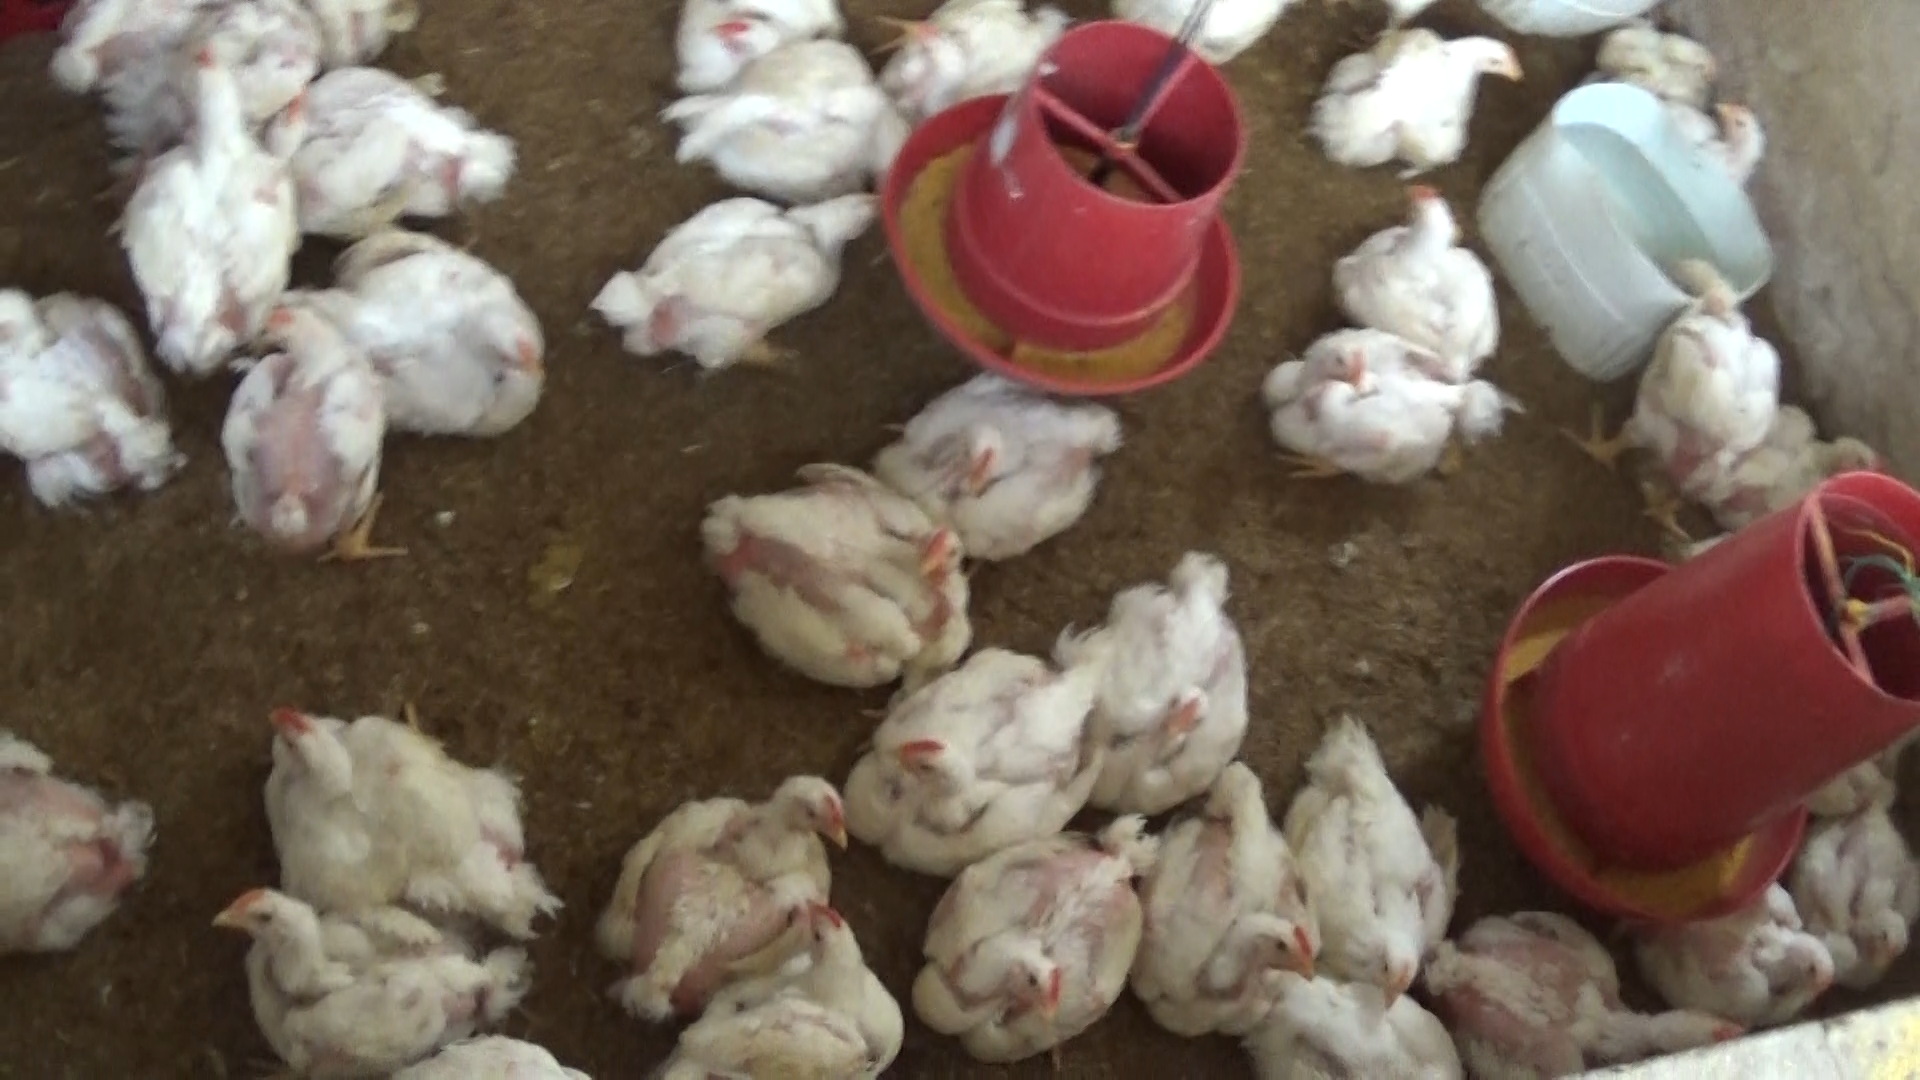Pollos: (243, 684, 562, 936), (589, 756, 856, 1038), (686, 452, 978, 698), (915, 803, 1160, 1063), (1524, 237, 1785, 477), (206, 873, 517, 1073), (1276, 712, 1484, 1000), (1431, 889, 1733, 1069), (1060, 549, 1265, 812), (1130, 748, 1309, 1047), (306, 223, 555, 436), (596, 175, 897, 352), (135, 37, 290, 377), (225, 282, 410, 568), (621, 889, 895, 1080), (843, 633, 1087, 839), (1246, 320, 1497, 517), (881, 367, 1114, 564), (0, 284, 193, 513), (684, 32, 915, 214), (262, 61, 508, 214), (1305, 15, 1524, 182), (1348, 175, 1505, 377), (1742, 378, 1902, 522), (1807, 785, 1920, 977), (653, 0, 856, 102), (1712, 877, 1825, 1036), (895, 0, 1060, 108), (1702, 87, 1796, 169)
